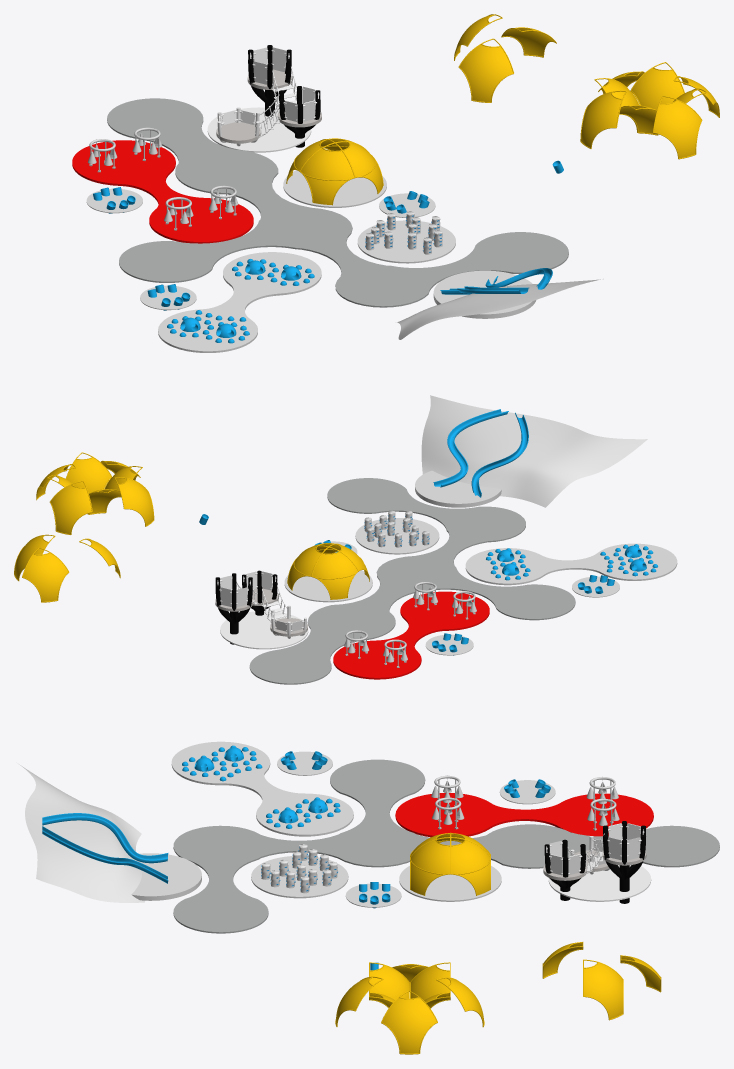
File: parque_escala_ar.glb
3 views of the same model, one above another, from view 1: azimuth 30°, elevation 25°; view 2: azimuth 150°, elevation 25°; view 3: azimuth 270°, elevation 25° (orthographic). The views are drawn at different scales.
Visible parts, largest first — view 1: SENDERO, suelo_10, suelo_4, CAMPO, suelo_8, mobiliario_1018, mobiliario_847, suelo_12, suelo_6, mobiliario_1113, suelo_14, mobiliario_968 (+8 smaller); view 2: SENDERO, CAMPO, suelo_10, suelo_4, suelo_6, suelo_14, suelo_8, mobiliario_999, mobiliario_844, suelo_12, mobiliario_1075, mobiliario_949 (+7 smaller); view 3: SENDERO, CAMPO, suelo_10, suelo_4, suelo_6, suelo_14, suelo_8, mobiliario_1056, suelo_12, mobiliario_1025, mobiliario_845, mobiliario_846 (+11 smaller).
Part boxes in pixels (bbox=[...]): SENDERO: bbox=[107, 98, 568, 307]; suelo_10: bbox=[72, 140, 253, 243]; suelo_4: bbox=[158, 252, 321, 352]; CAMPO: bbox=[397, 279, 603, 339]; suelo_8: bbox=[357, 220, 455, 263]; mobiliario_1018: bbox=[459, 44, 512, 102]; mobiliario_847: bbox=[300, 149, 354, 204]; suelo_12: bbox=[283, 170, 386, 207]; suelo_6: bbox=[433, 270, 536, 318]; mobiliario_1113: bbox=[654, 100, 701, 158]; suelo_14: bbox=[207, 107, 311, 152]; mobiliario_968: bbox=[631, 68, 683, 109]; SENDERO: bbox=[249, 478, 575, 684]; CAMPO: bbox=[421, 395, 647, 507]; suelo_10: bbox=[333, 591, 489, 679]; suelo_4: bbox=[465, 543, 677, 585]; suelo_6: bbox=[415, 470, 501, 507]; suelo_14: bbox=[220, 611, 308, 649]; suelo_8: bbox=[355, 518, 439, 554]; mobiliario_999: bbox=[23, 553, 68, 601]; mobiliario_844: bbox=[312, 552, 357, 599]; suelo_12: bbox=[284, 570, 372, 602]; mobiliario_1075: bbox=[50, 485, 91, 534]; mobiliario_949: bbox=[66, 457, 111, 493]; SENDERO: bbox=[173, 759, 719, 933]; CAMPO: bbox=[19, 764, 144, 902]; suelo_10: bbox=[395, 793, 653, 837]; suelo_4: bbox=[171, 741, 353, 836]; suelo_6: bbox=[131, 853, 201, 900]; suelo_14: bbox=[548, 865, 651, 901]; suelo_8: bbox=[251, 856, 348, 898]; mobiliario_1056: bbox=[382, 998, 436, 1053]; suelo_12: bbox=[399, 866, 501, 901]; mobiliario_1025: bbox=[584, 962, 622, 1018]; mobiliario_845: bbox=[451, 840, 490, 895]; mobiliario_846: bbox=[411, 840, 449, 895].
Bounding box in the file's own units: 4 × 0.3996 × 3.63.
